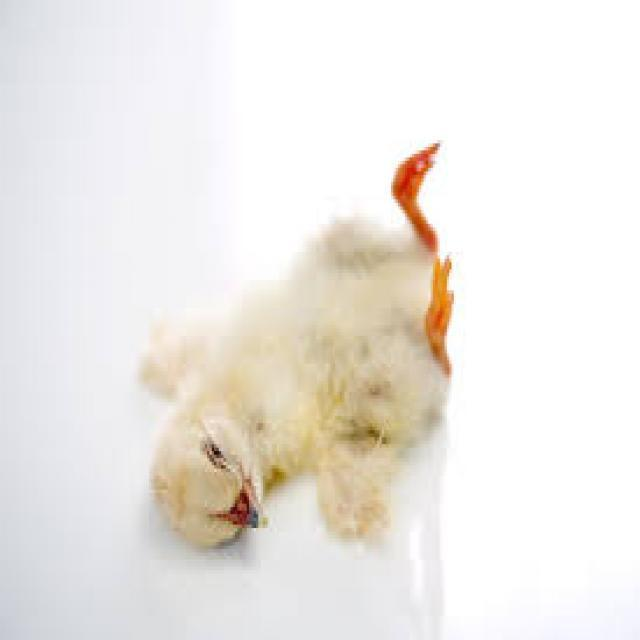poussin: (142, 144, 452, 556)
